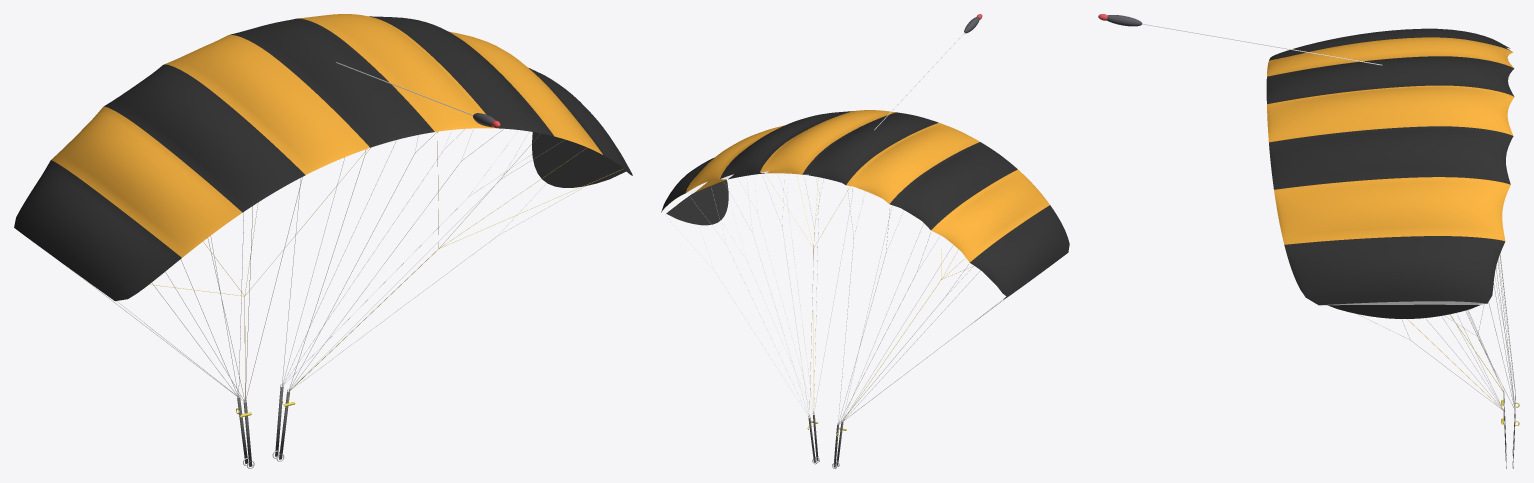
Rendered from PD_Katana_120.glb.
3 renders of one model, left to right at view 1: azimuth 30°, elevation 25°; view 2: azimuth 150°, elevation 25°; view 3: azimuth 270°, elevation 25°, orthographic. The views are drawn at different scales.
Visible parts, largest first — view 1: TopSkin, Lines, Stabilizers, Risers, SteeringLines; view 2: TopSkin, Lines, Stabilizers, BottomSkin, Risers, SteeringLines; view 3: TopSkin, Lines, Stabilizers, PilotChute, Ribs.
Part boxes in pixels (box(x1,y1,x2,y2)): TopSkin: box(14, 14, 632, 301); Lines: box(58, 129, 585, 401); Stabilizers: box(532, 132, 625, 187); Risers: box(236, 384, 295, 468); SteeringLines: box(149, 132, 622, 413); TopSkin: box(661, 110, 1069, 297); Lines: box(665, 173, 1005, 424); Stabilizers: box(666, 180, 1006, 299); BottomSkin: box(668, 170, 995, 284); Risers: box(807, 413, 846, 468); SteeringLines: box(765, 174, 972, 419); TopSkin: box(1266, 28, 1514, 305); Lines: box(1357, 59, 1515, 410); Stabilizers: box(1328, 304, 1479, 318); PilotChute: box(1098, 14, 1382, 65); Ribs: box(1322, 47, 1510, 305).
Size of the model in its own units: 4.71 by 4.3 by 3.66.
